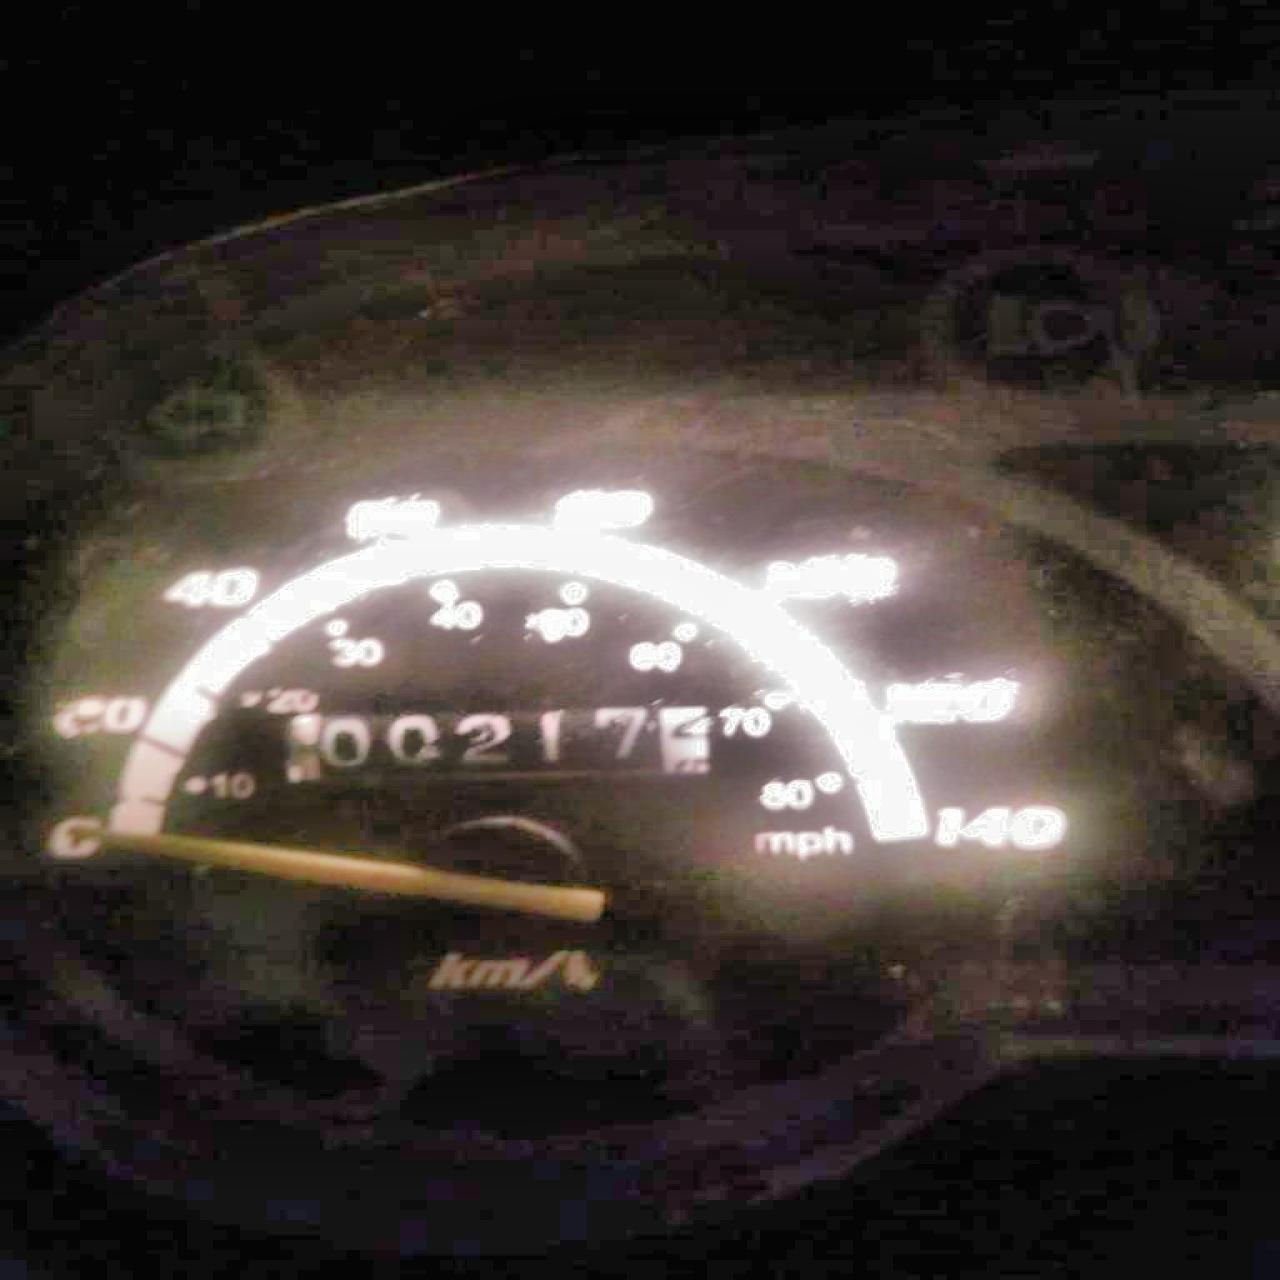0: (387, 713, 441, 767), (319, 717, 369, 768)
1: (537, 710, 561, 764)
2: (454, 713, 513, 765), (670, 701, 707, 740)
7: (593, 704, 647, 760)
odometer: (280, 700, 713, 782)
